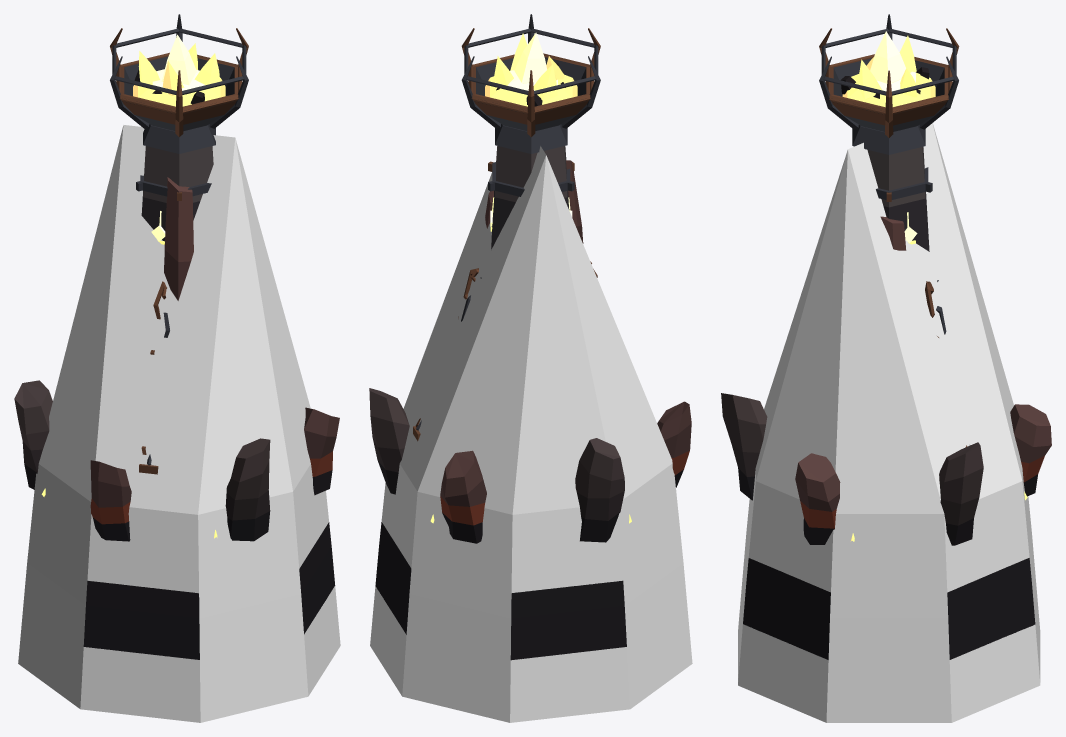
The model's file is volcanic_basalt_obelisk_brazier.glb.
The picture shows the model from 3 angles, left to right: view 1: azimuth 30°, elevation 25°; view 2: azimuth 150°, elevation 25°; view 3: azimuth 270°, elevation 25°; orthographic projection.
Parts seen in each view (by area): view 1: col_basaltbrazier_base, VolcanicBasaltObeliskBrazier; view 2: col_basaltbrazier_base, VolcanicBasaltObeliskBrazier; view 3: col_basaltbrazier_base, VolcanicBasaltObeliskBrazier.
Boxes of the visible parts, <box> form: col_basaltbrazier_base: <box>18,125,340,722</box>; VolcanicBasaltObeliskBrazier: <box>14,14,339,659</box>; col_basaltbrazier_base: <box>370,146,692,722</box>; VolcanicBasaltObeliskBrazier: <box>369,14,691,660</box>; col_basaltbrazier_base: <box>738,123,1040,722</box>; VolcanicBasaltObeliskBrazier: <box>721,14,1051,659</box>.
Bounding box in the file's own units: 5.28 × 12.08 × 5.78.
